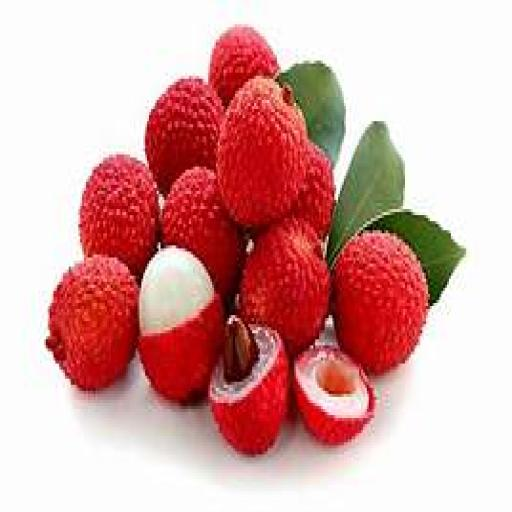lychee: (215, 79, 306, 227), (137, 246, 222, 402), (332, 231, 426, 372), (238, 219, 329, 354), (45, 255, 136, 390), (162, 167, 243, 302), (208, 316, 287, 454), (80, 155, 157, 275), (145, 79, 222, 193), (292, 346, 373, 445), (208, 25, 277, 106), (294, 143, 333, 239)
